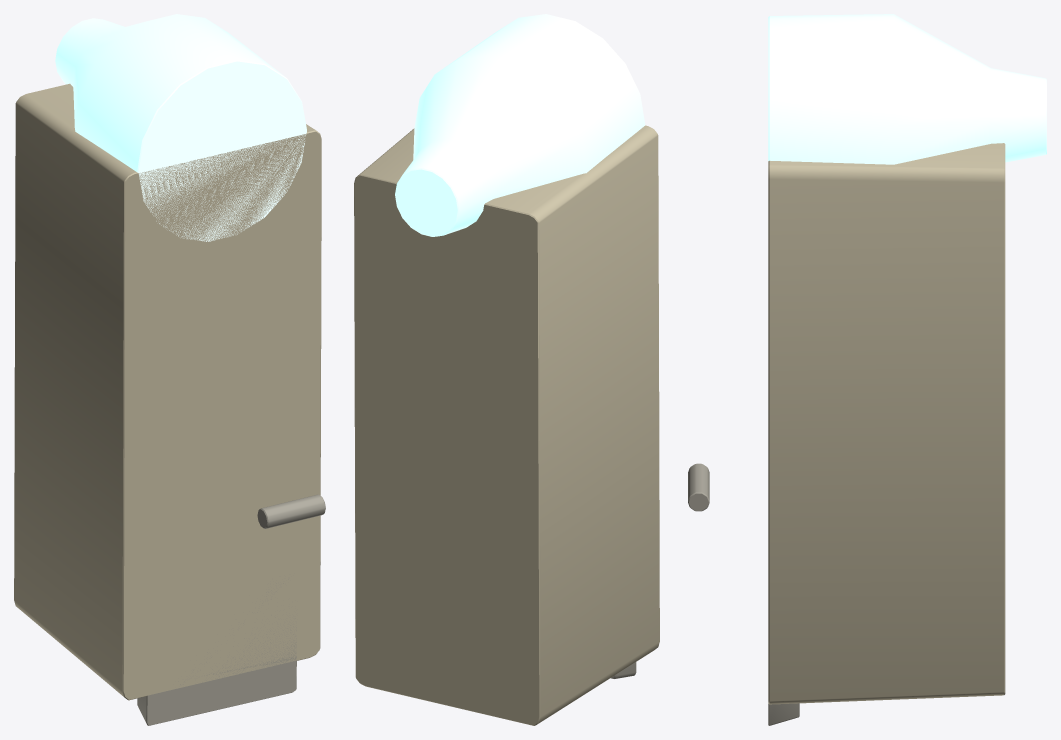
Rendered from LV_water_cooler.fbx.
3 renders of one model, left to right at view 1: azimuth 30°, elevation 25°; view 2: azimuth 150°, elevation 25°; view 3: azimuth 270°, elevation 25°, orthographic. The views are drawn at different scales.
Visible parts, largest first — view 1: LV_water_cooler; view 2: LV_water_cooler; view 3: LV_water_cooler.
Boxes of the visible parts, x1,y1,x2,y2 form: LV_water_cooler: (14, 14, 325, 725); LV_water_cooler: (354, 14, 659, 725); LV_water_cooler: (688, 14, 1046, 725).
Size of the model in its own units: 0.3399 by 1.06 by 0.5155.
